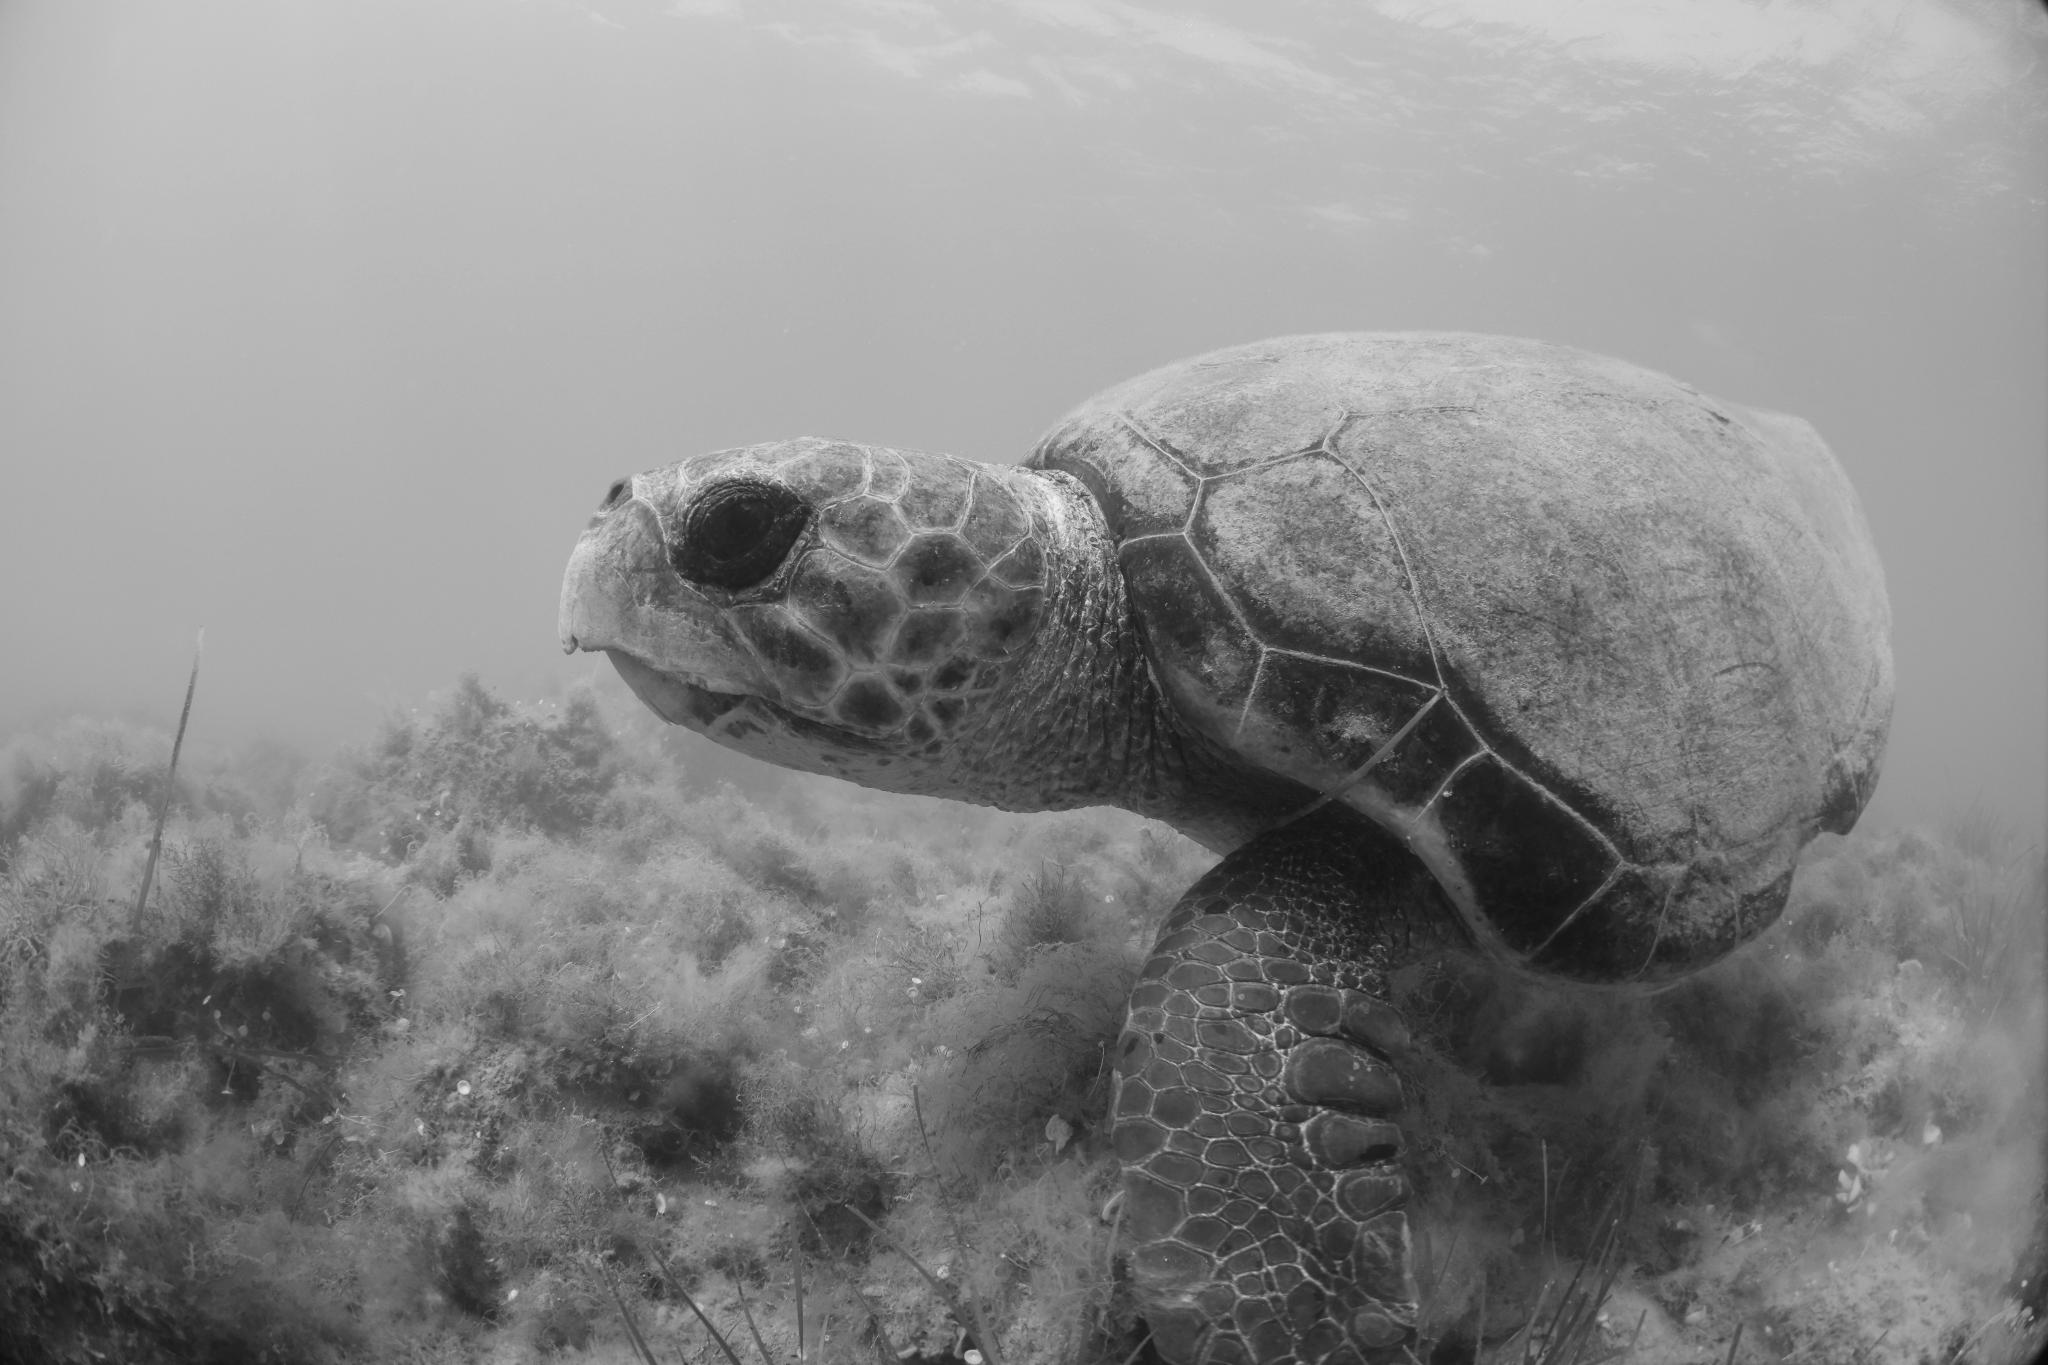Head: (559, 438, 1110, 812)
